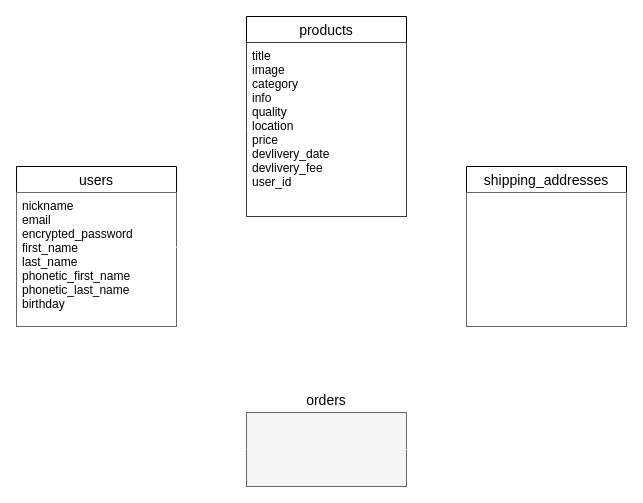
Image size: 643x503. Some labels were removed from this diagram. Here are the shapes that lost their labels. From the top down, the centre of each, then its label:
(x=546, y=259): postal_address state city street building phone order_id
(x=326, y=449): user_id product_id shipping_id
